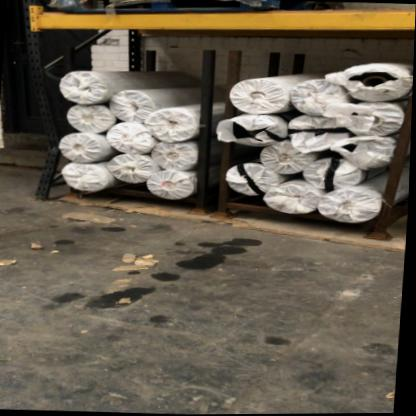vertical_damage: (25, 106, 81, 199)
